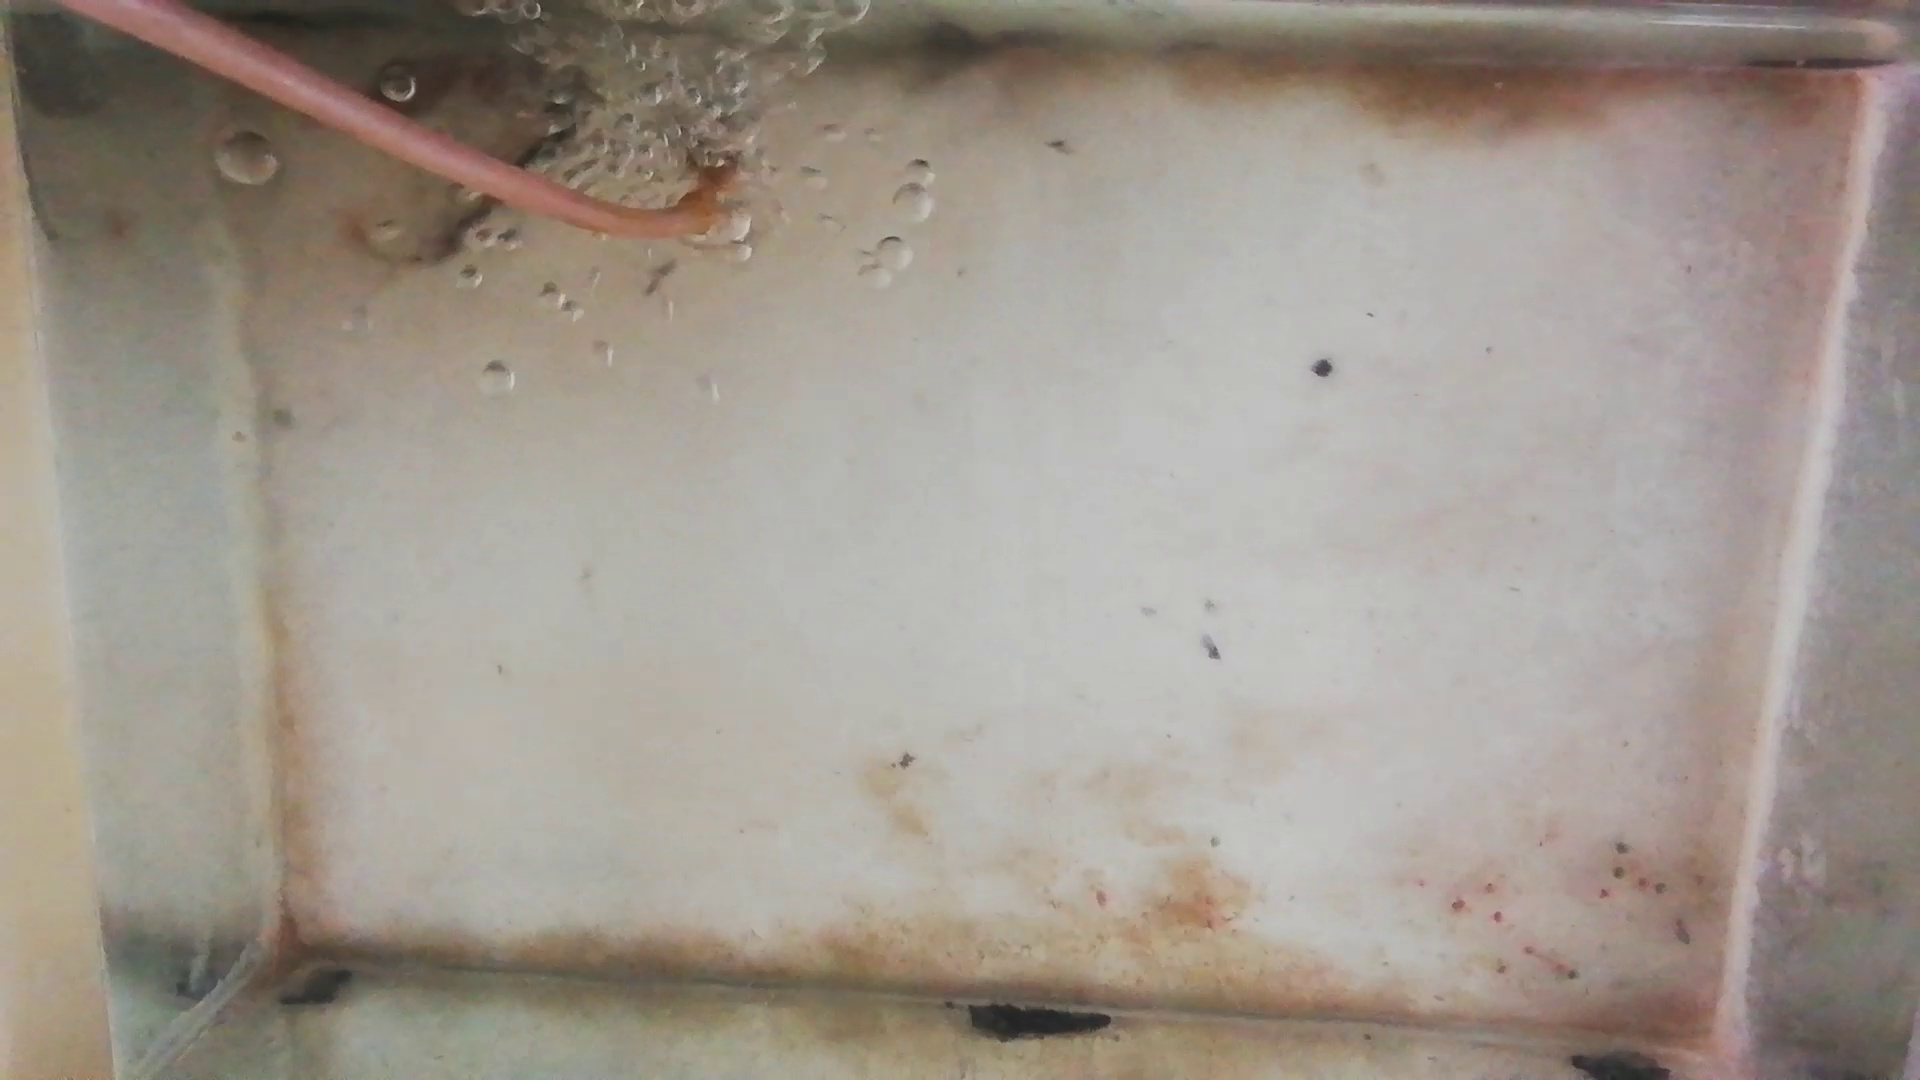fish: (419, 127, 593, 262), (361, 54, 527, 103)
